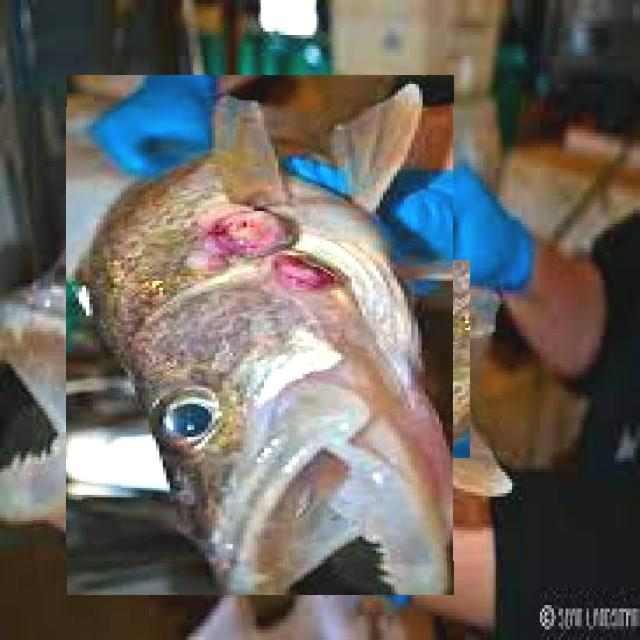EUS Disease: (34, 108, 488, 562), (230, 246, 456, 474)
